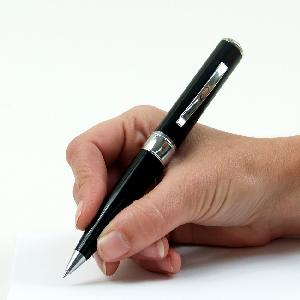pen: (60, 30, 249, 281)
